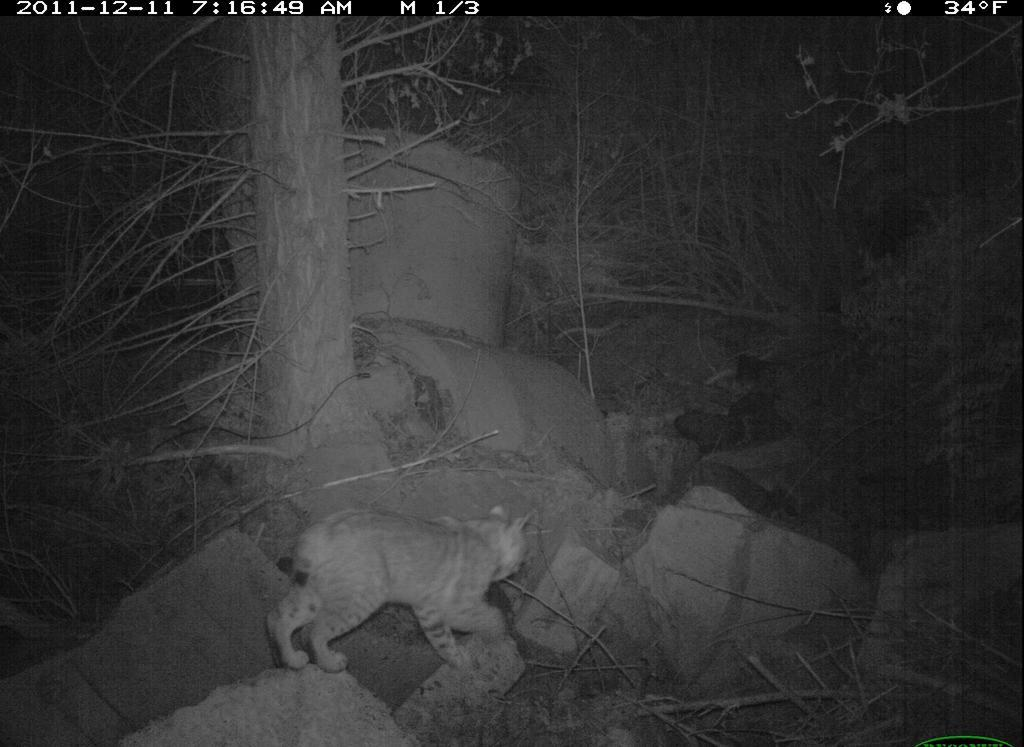bobcat: (254, 473, 562, 692)
